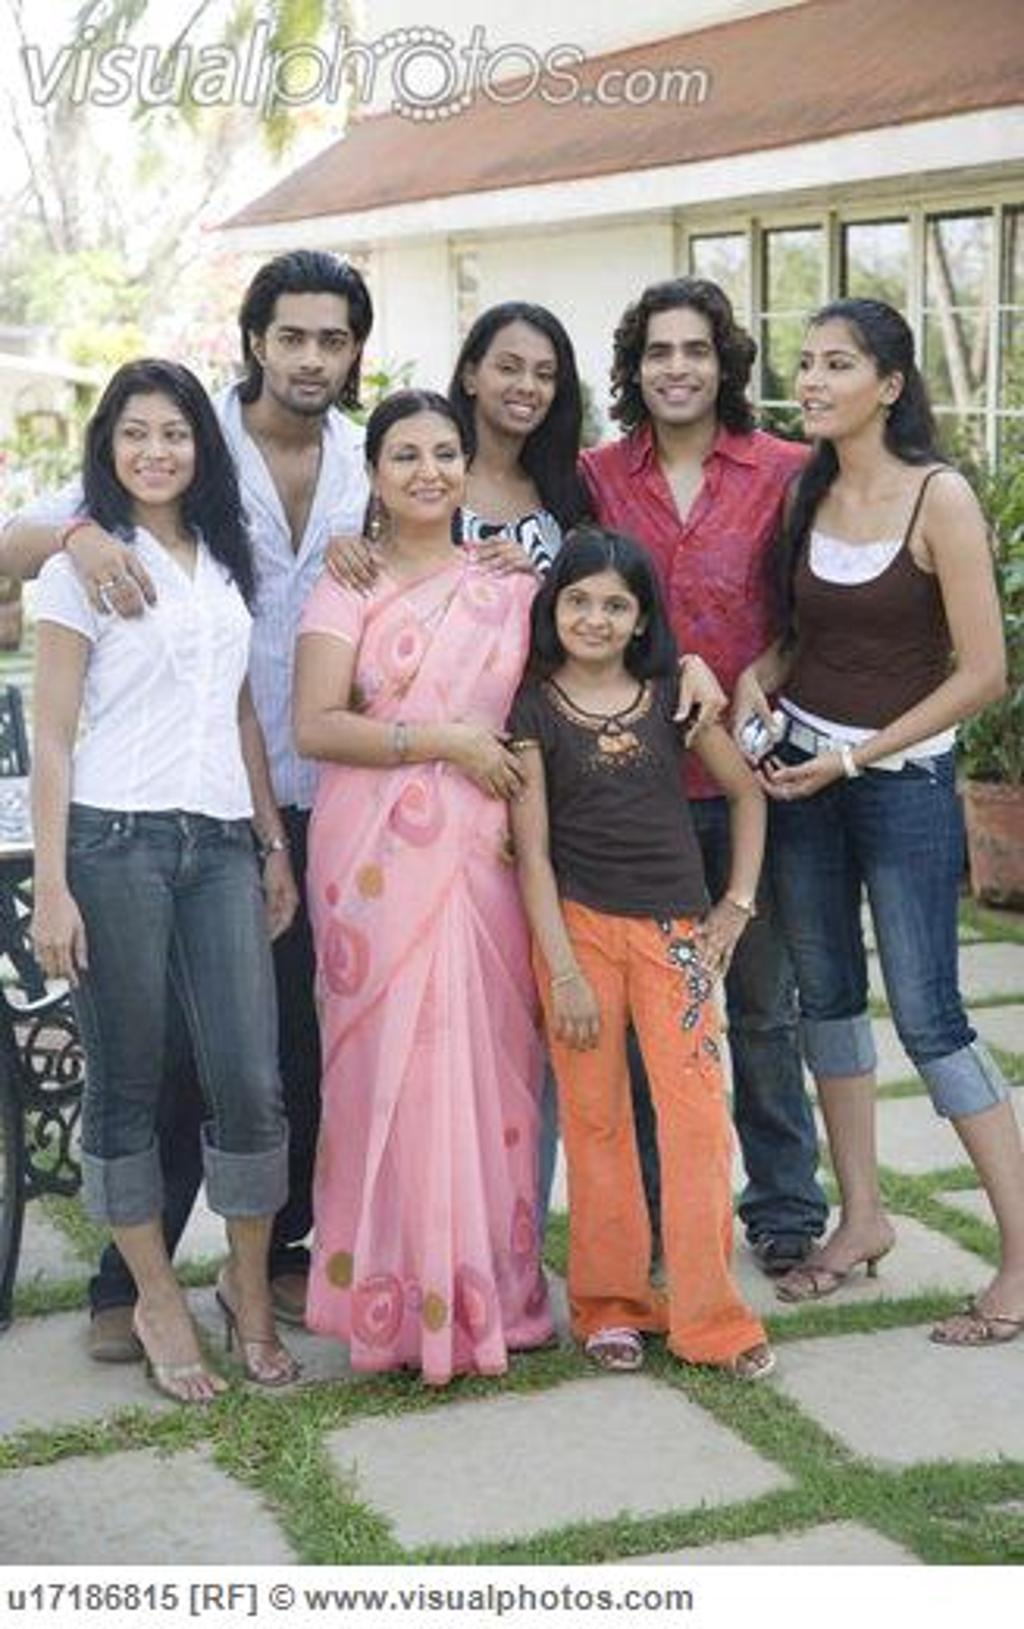face: (369, 410, 468, 515), (270, 283, 346, 410), (111, 391, 194, 499), (798, 328, 878, 433), (483, 324, 556, 435), (642, 308, 715, 419), (560, 572, 636, 661)
